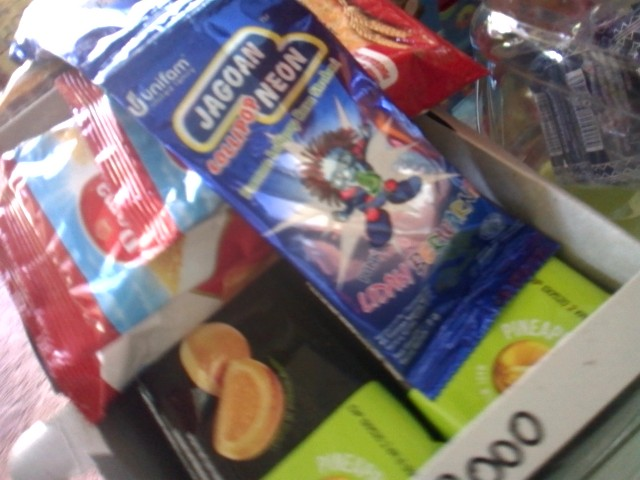jagoan neon: (84, 1, 564, 405)
